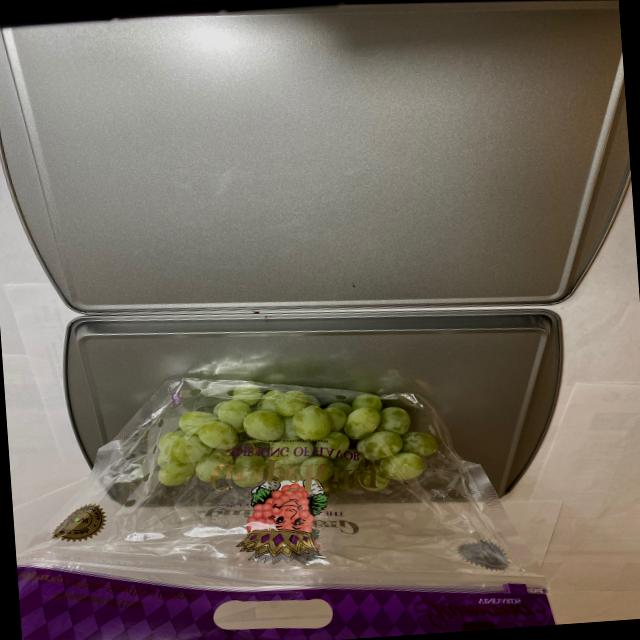grapes: (144, 361, 460, 514)
